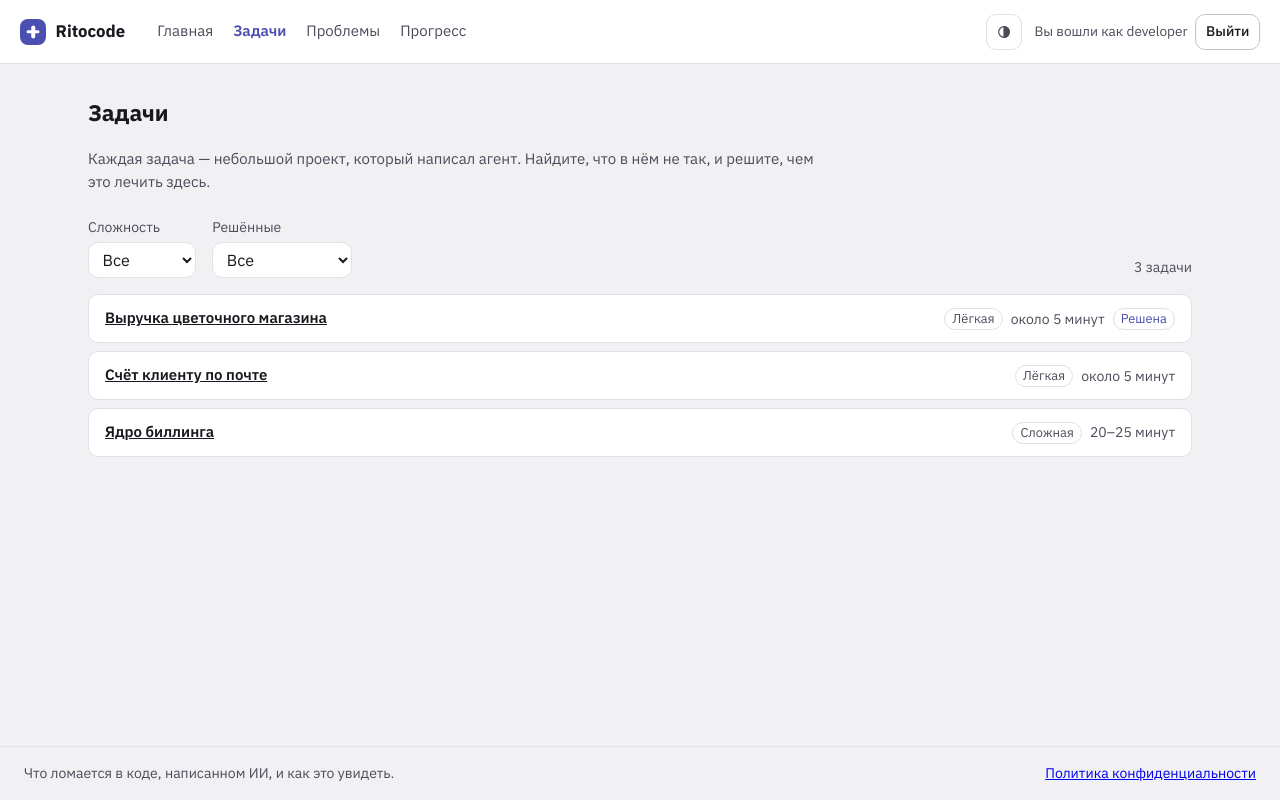
Test: the task catalogue › filters by difficulty, and says when nothing is left
Select "Сложная" in the dropdown labelled "Сложность" at (142, 260), box x1=88 y1=242 x2=196 y2=278
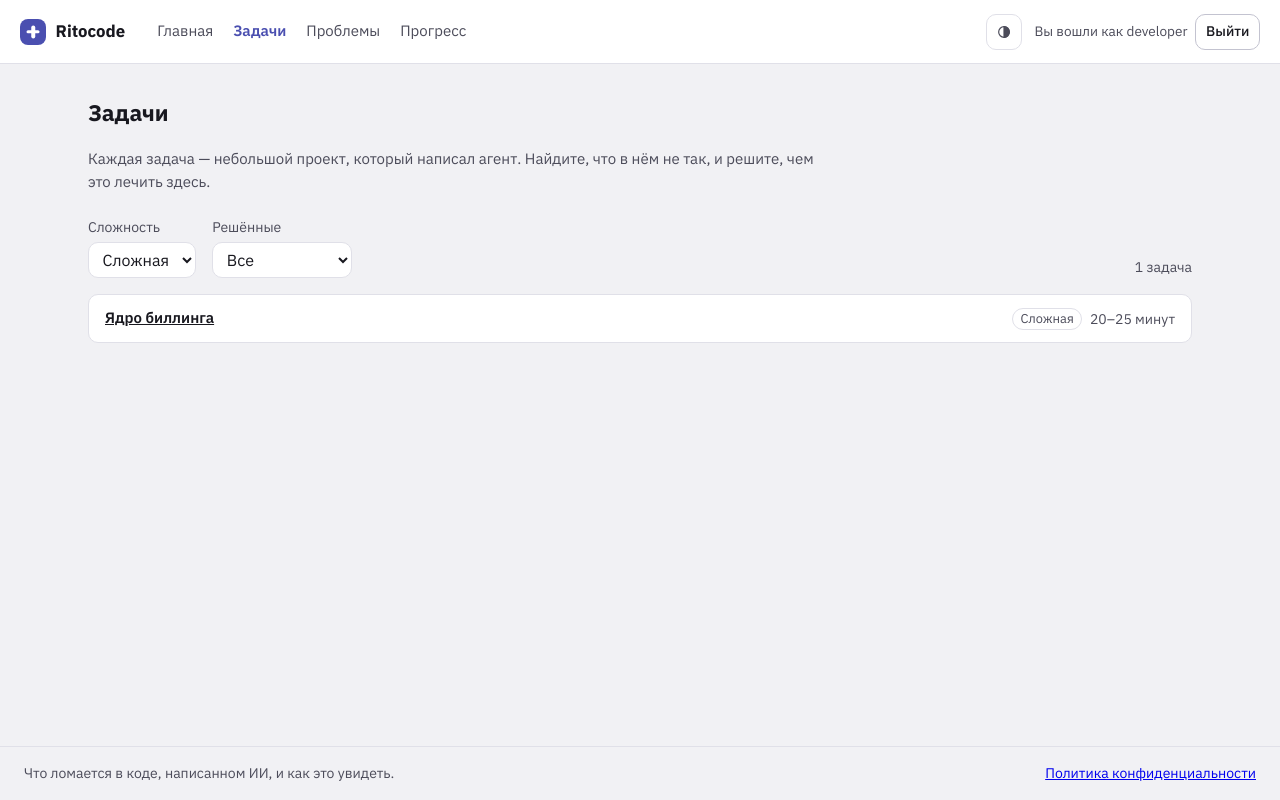
Expected: the number of list items is 1, x1=88 y1=294 x2=1192 y2=343
Expected: the text "1 задача" is shown, x1=1135 y1=257 x2=1192 y2=278
Select "Средняя" in the dropdown labelled "Сложность" at (142, 260), box x1=88 y1=242 x2=196 y2=278
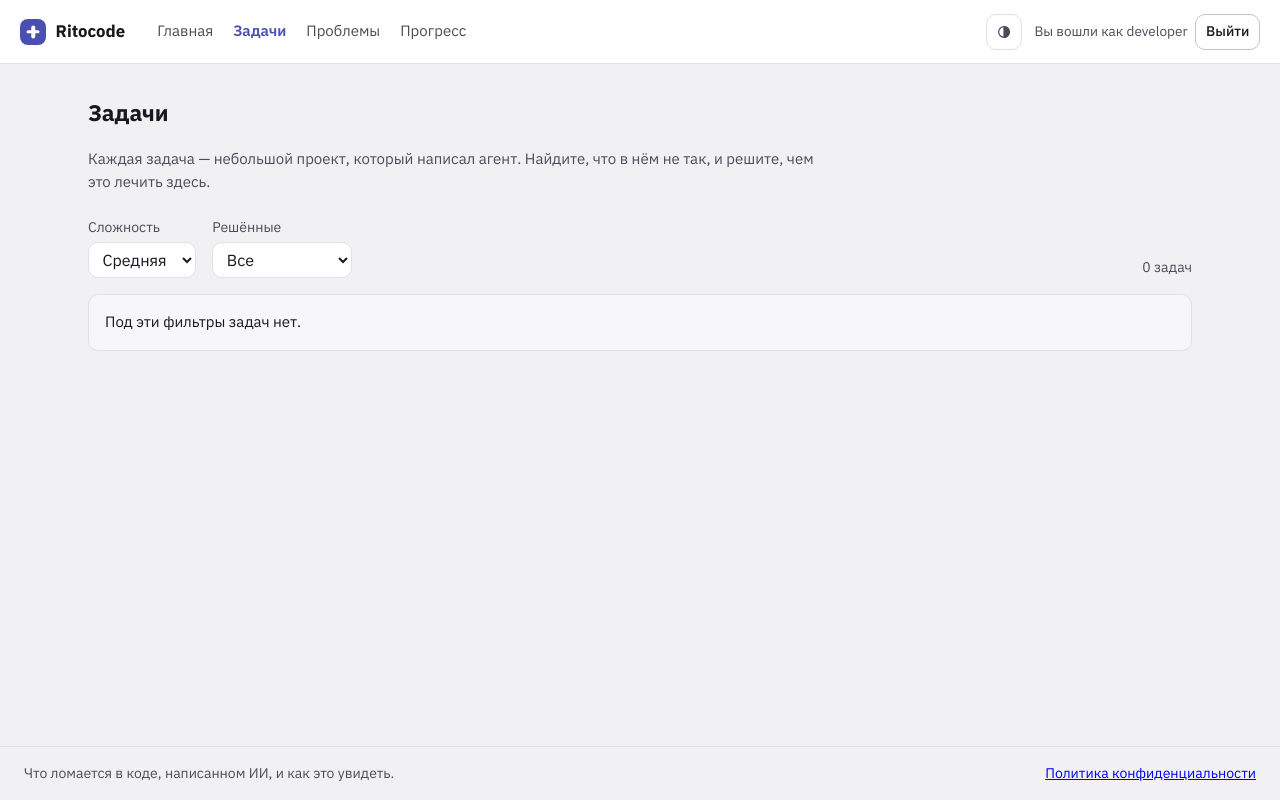
Expected: the text "Под эти фильтры задач нет." is shown, x1=88 y1=294 x2=1192 y2=351
